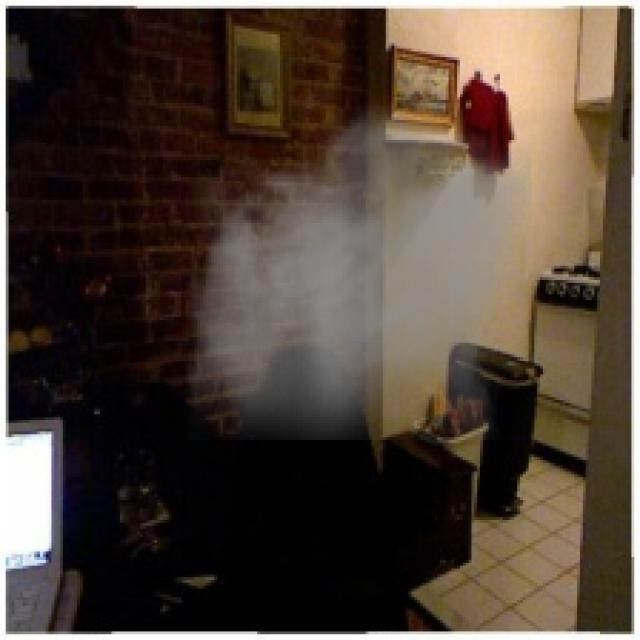Smoke: (186, 91, 532, 440)
